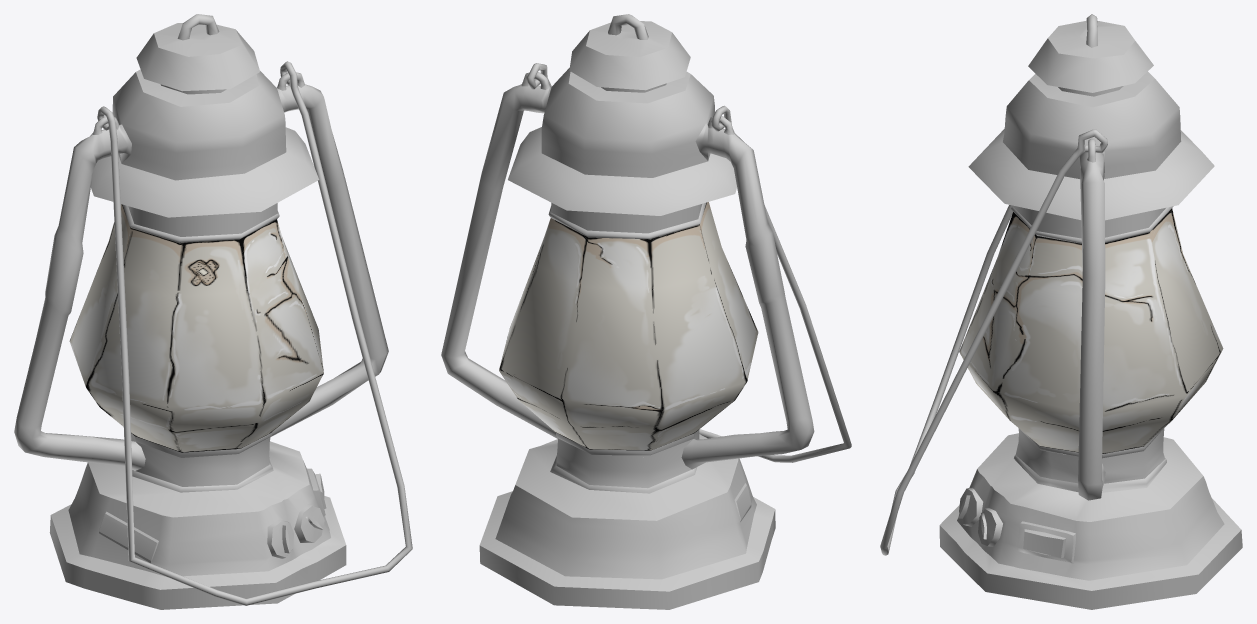
The model's file is Lantern_Model_withHandle.fbx.
3 views of the same model, side by side, from view 1: azimuth 30°, elevation 25°; view 2: azimuth 150°, elevation 25°; view 3: azimuth 270°, elevation 25° (orthographic).
Parts seen in each view (by area): view 1: Lantern_Mesh, polySurface6.001, Handle; view 2: Lantern_Mesh, polySurface6.001, Handle; view 3: Lantern_Mesh, polySurface6.001, Handle.
Part boxes in pixels (x1=…): Lantern_Mesh: x1=14, y1=14, x2=388, y2=609; polySurface6.001: x1=69, y1=204, x2=323, y2=452; Handle: x1=97, y1=61, x2=412, y2=605; Lantern_Mesh: x1=441, y1=14, x2=814, y2=609; polySurface6.001: x1=499, y1=202, x2=758, y2=450; Handle: x1=527, y1=63, x2=851, y2=462; Lantern_Mesh: x1=939, y1=14, x2=1242, y2=609; polySurface6.001: x1=959, y1=208, x2=1223, y2=453; Handle: x1=880, y1=129, x2=1107, y2=555.
Bounding box in the file's own units: 249 × 344 × 212.
